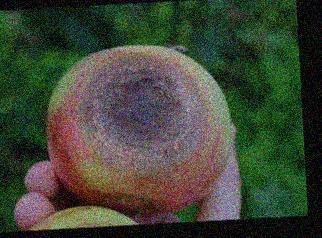rotten apple: (37, 40, 232, 215)
